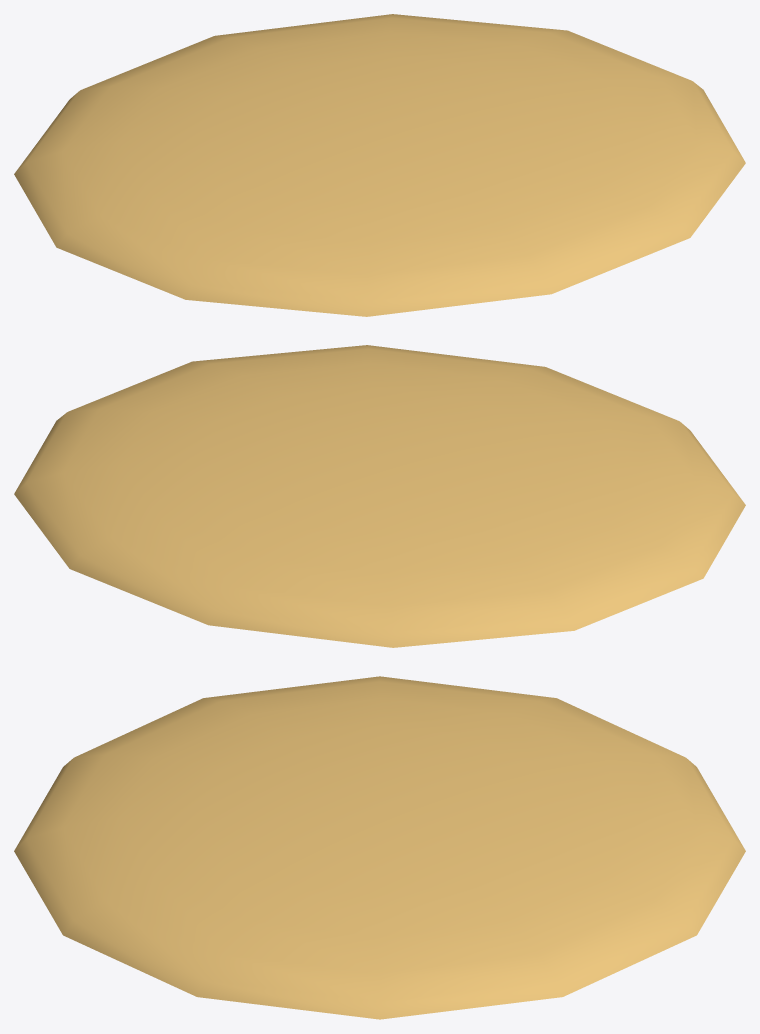
The model's file is Isla FINAL.fbx.
3 renders of one model, top to bottom at view 1: azimuth 30°, elevation 25°; view 2: azimuth 150°, elevation 25°; view 3: azimuth 270°, elevation 25°, orthographic. The views are drawn at different scales.
Parts seen in each view (by area): view 1: Sphere; view 2: Sphere; view 3: Sphere.
Part boxes in pixels (<box>): Sphere: <box>14,14,745,316</box>; Sphere: <box>14,345,745,647</box>; Sphere: <box>14,676,745,1019</box>.
Size of the model in its own units: 509 by 33.3 by 468.
